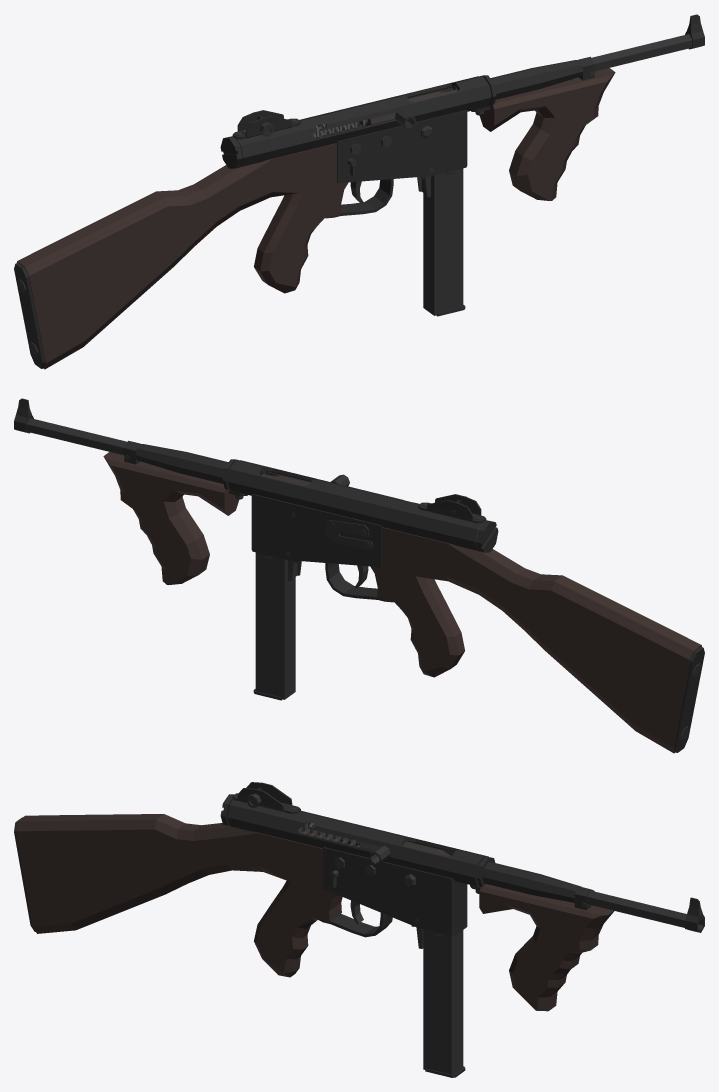
File: sub_ingram.glb
The picture shows the model from 3 angles, top to bottom: view 1: azimuth 30°, elevation 25°; view 2: azimuth 150°, elevation 25°; view 3: azimuth 330°, elevation 25°; orthographic projection.
Parts seen in each view (by area): view 1: Cube.008_Material_0, Cube.008_Material.004_0, Cube.008_Material.005_0, Cube.008_Material.007_0, Cube.008_Material.008_0, Cube.008_Material.006_0; view 2: Cube.008_Material_0, Cube.008_Material.004_0, Cube.008_Material.005_0, Cube.008_Material.007_0, Cube.008_Material.008_0, Cube.008_Material.006_0; view 3: Cube.008_Material_0, Cube.008_Material.004_0, Cube.008_Material.005_0, Cube.008_Material.007_0, Cube.008_Material.008_0, Cube.008_Material.006_0.
Boxes of the visible parts, x1,y1,x2,y2 form: Cube.008_Material_0: (17, 68, 615, 369); Cube.008_Material.004_0: (14, 60, 583, 368); Cube.008_Material.005_0: (230, 14, 704, 166); Cube.008_Material.007_0: (241, 122, 463, 315); Cube.008_Material.008_0: (395, 34, 692, 129); Cube.008_Material.006_0: (18, 71, 594, 356); Cube.008_Material_0: (103, 452, 701, 753); Cube.008_Material.004_0: (135, 444, 704, 752); Cube.008_Material.005_0: (14, 398, 488, 550); Cube.008_Material.007_0: (255, 496, 477, 699); Cube.008_Material.008_0: (26, 418, 349, 486); Cube.008_Material.006_0: (124, 455, 700, 740); Cube.008_Material_0: (16, 814, 614, 1011); Cube.008_Material.004_0: (14, 782, 581, 1077); Cube.008_Material.005_0: (226, 787, 704, 932); Cube.008_Material.007_0: (246, 793, 463, 1074); Cube.008_Material.008_0: (369, 845, 703, 929); Cube.008_Material.006_0: (237, 794, 585, 948).
Size of the model in its own units: 1177 by 393 by 77.59.
9 materials, 9 textured.
